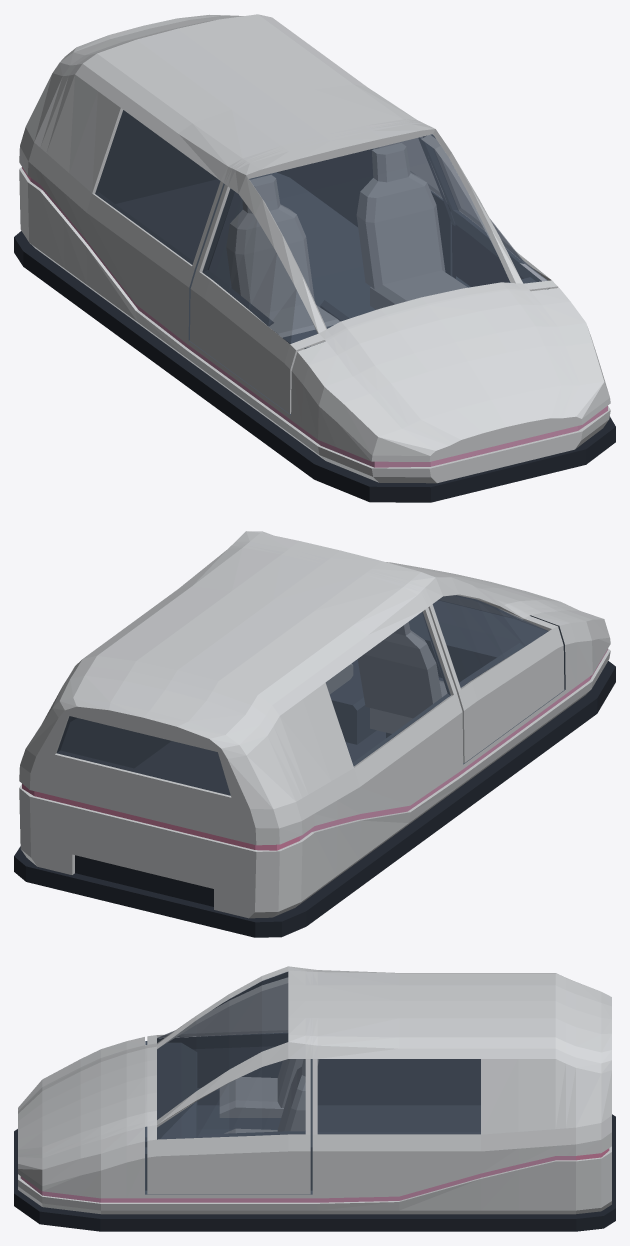
The model's file is coupe.glb.
3 renders of one model, top to bottom at view 1: azimuth 30°, elevation 25°; view 2: azimuth 150°, elevation 25°; view 3: azimuth 270°, elevation 25°, orthographic. The views are drawn at different scales.
Parts seen in each view (by area): view 1: body, glass; view 2: body, glass; view 3: body, glass.
Part boxes in pixels (x1,y1,x2,y2): body: (14, 14, 615, 502); glass: (95, 110, 547, 343); body: (14, 531, 615, 937); glass: (57, 595, 548, 795); body: (14, 966, 615, 1231); glass: (157, 971, 480, 1139).
Bounding box in the file's own units: 2 × 1.49 × 4.5.
